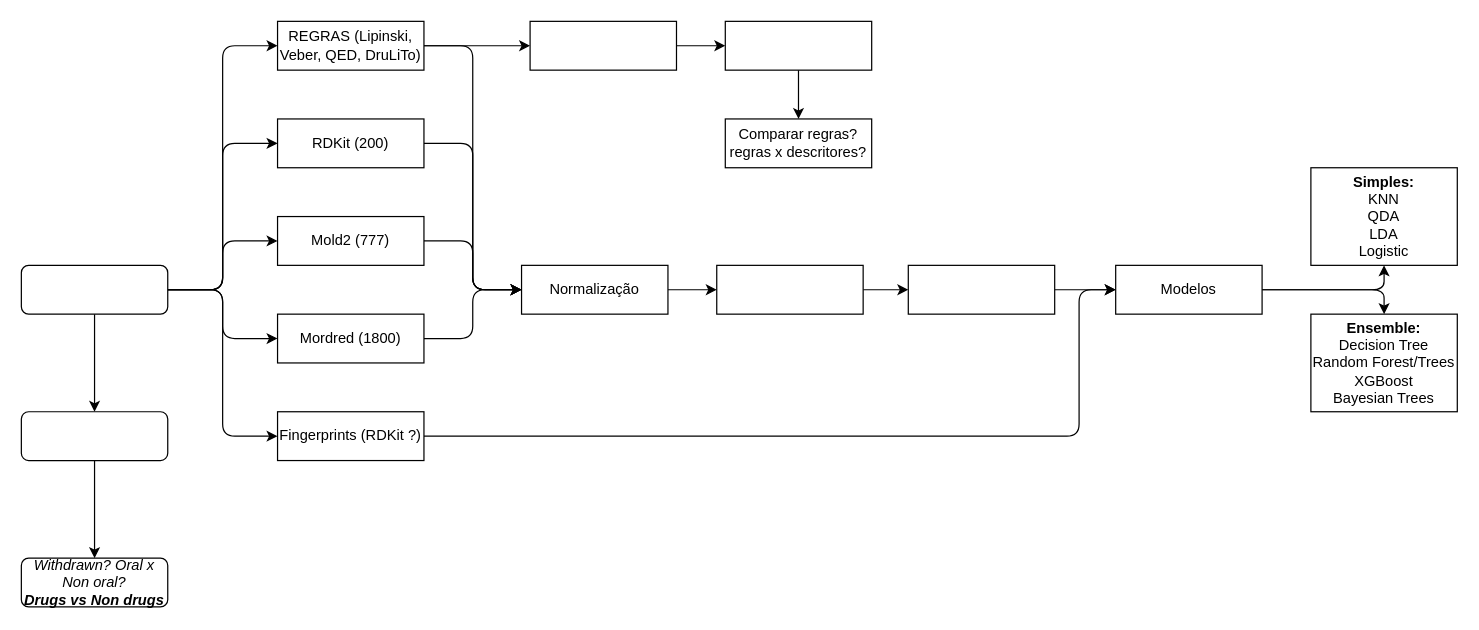
Image size: 1479x630. Some labels were removed from this diagram. The centre of each missing label's shape, as x and y in pixels:
"Basic EDA" goes at (x=602, y=45).
"Chemical Space" goes at (x=798, y=45).
"Correlação (discutir)" goes at (x=981, y=289).
"Dataset" goes at (x=94, y=289).
"Dataset negativo" goes at (x=94, y=436).
"Filtro Variância 0" goes at (x=789, y=289).
